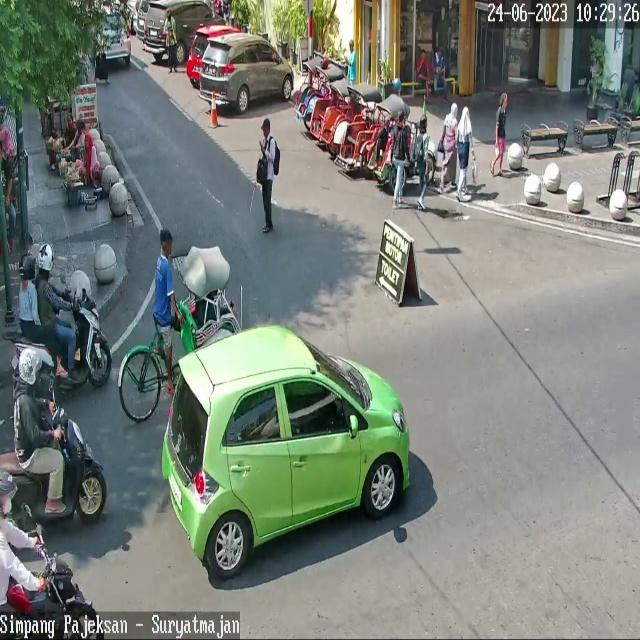bus: (0, 403, 106, 522), (12, 288, 112, 390), (0, 553, 104, 640)
motorcycle: (162, 324, 410, 579), (199, 32, 294, 114), (144, 0, 225, 64), (186, 24, 243, 80), (93, 8, 132, 60)
